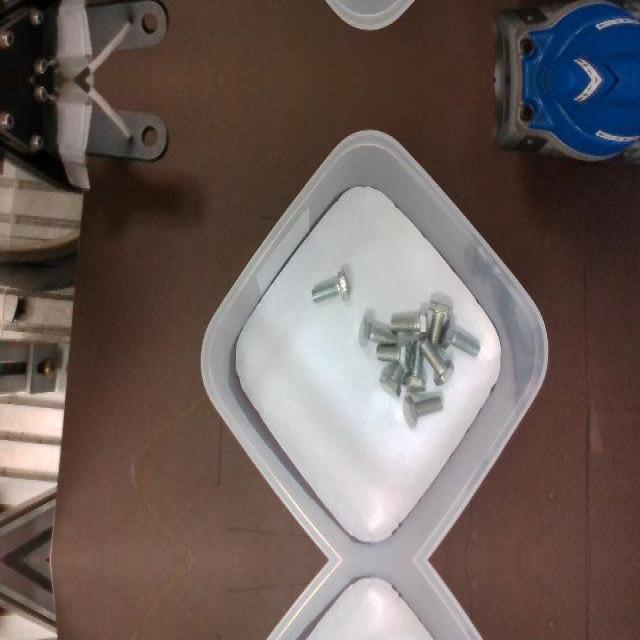screw: (419, 337, 454, 387), (438, 318, 480, 358), (403, 394, 443, 428), (376, 339, 415, 373), (311, 270, 349, 304), (359, 315, 397, 347), (389, 309, 427, 339)
